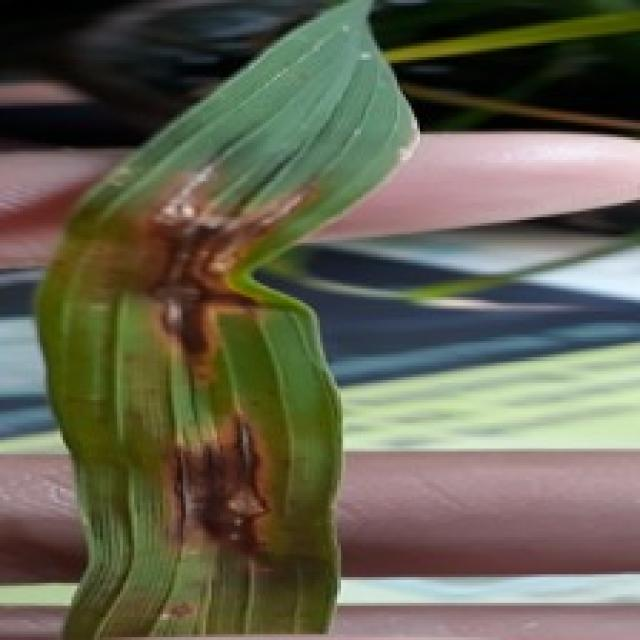Unhealthy: (88, 166, 321, 392), (158, 406, 281, 574), (394, 130, 423, 173), (159, 596, 199, 625), (99, 159, 138, 188)
